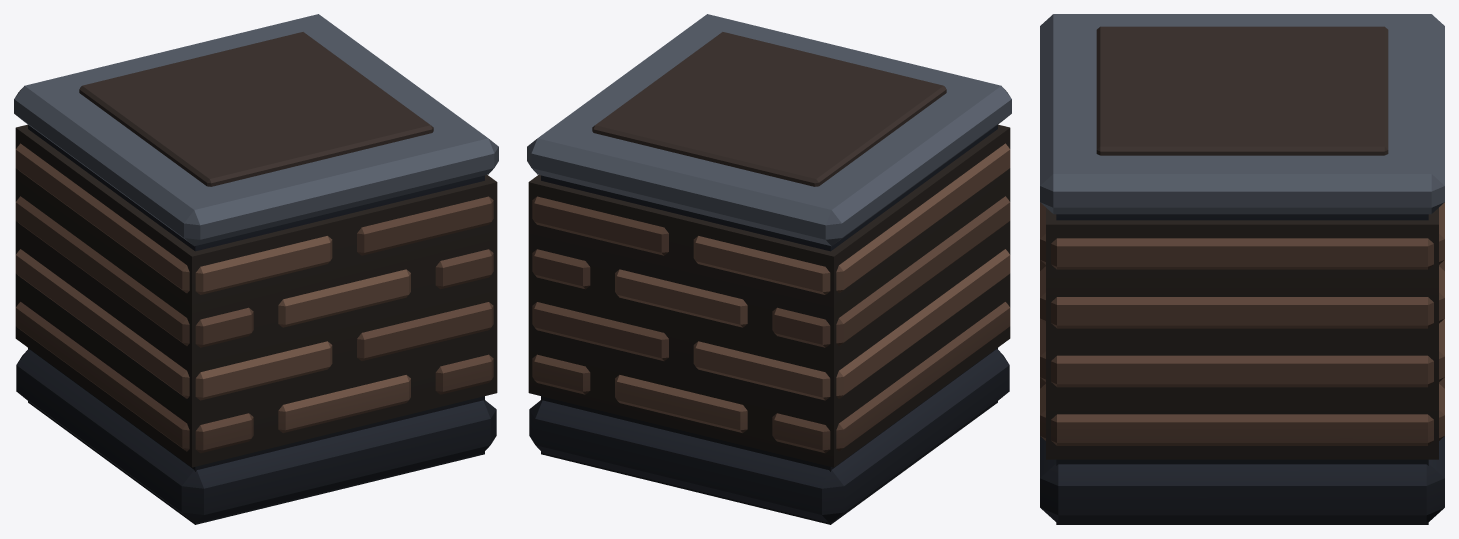
Rendered from soot-brick-wall.glb.
3 views of the same model, side by side, from view 1: azimuth 30°, elevation 25°; view 2: azimuth 150°, elevation 25°; view 3: azimuth 270°, elevation 25° (orthographic). The views are drawn at different scales.
Parts seen in each view (by area): view 1: mesh_soot_brick_wall; view 2: mesh_soot_brick_wall; view 3: mesh_soot_brick_wall.
Part boxes in pixels (x1,y1,x2,y2): mesh_soot_brick_wall: (14, 14, 498, 524); mesh_soot_brick_wall: (527, 14, 1011, 524); mesh_soot_brick_wall: (1040, 14, 1444, 524).
Bounding box in the file's own units: 1 × 0.98 × 1.
